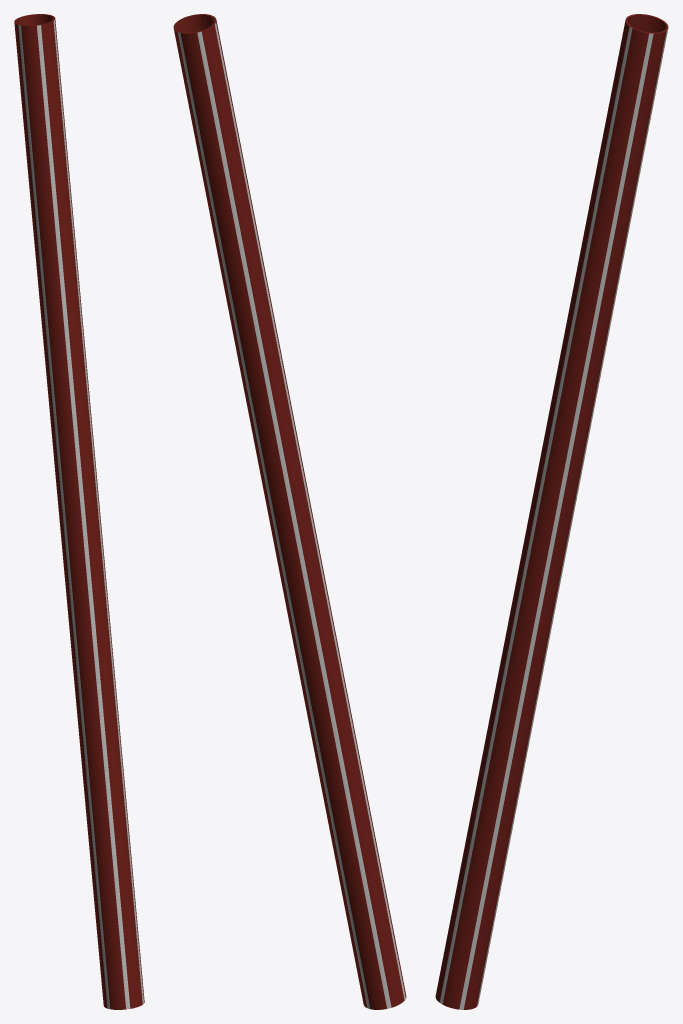
Rendered from RedStraw.fbx.
The picture shows the model from 3 angles, left to right: view 1: azimuth 90°, elevation 25°; view 2: azimuth 150°, elevation 25°; view 3: azimuth 330°, elevation 25°; orthographic projection. The views are drawn at different scales.
Parts seen in each view (by area): view 1: Cylinder003; view 2: Cylinder003; view 3: Cylinder003.
Boxes of the visible parts, <box> form: Cylinder003: <box>14,14,144,1009</box>; Cylinder003: <box>173,14,406,1009</box>; Cylinder003: <box>435,14,668,1009</box>.
Size of the model in its own units: 9.49 by 49.59 by 6.33.
